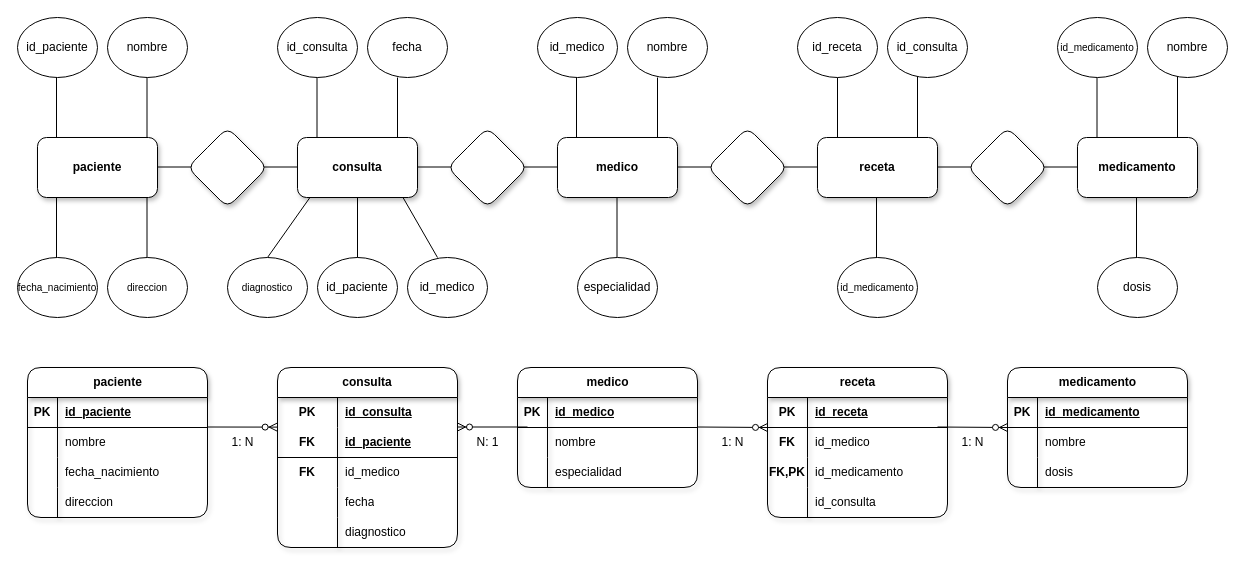
Image size: 1245x572. Some labels were removed from this diagram. Here are the shapes that lost their labels. From the top down, the centre of each, then its label:
At point 228,168: "solicita".
At point 488,168: "con".
At point 748,168: "formula".
At point 1008,168: "contiene".
